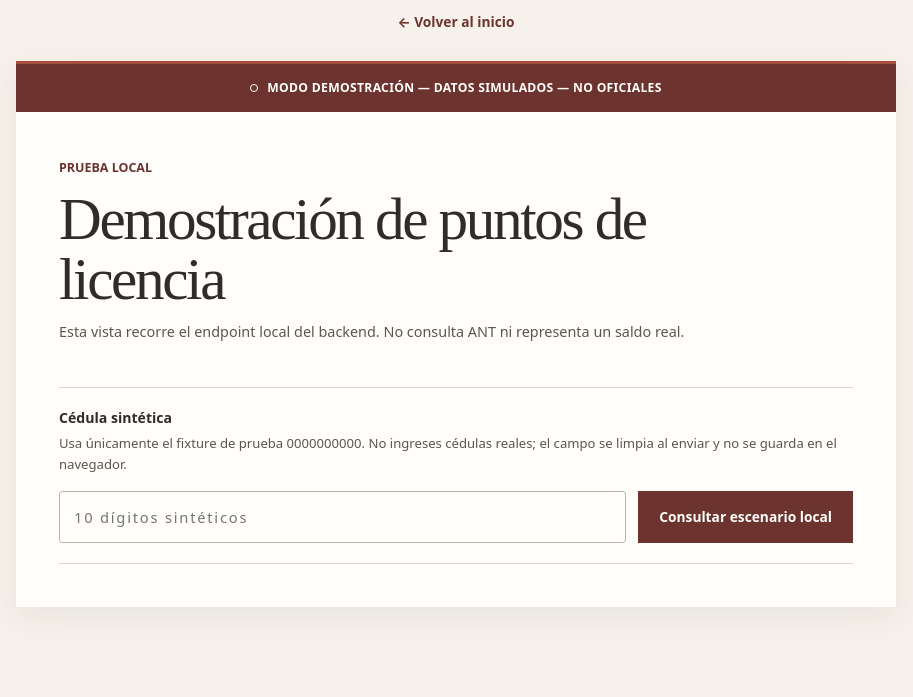
Scenario: demostración local de puntos ANT › distingue timeout del proveedor y timeout del cliente
The image size is (913, 697).
Type "0000000000" into the field labelled "Cédula sintética" at point(343, 517), box [59,491,626,543]
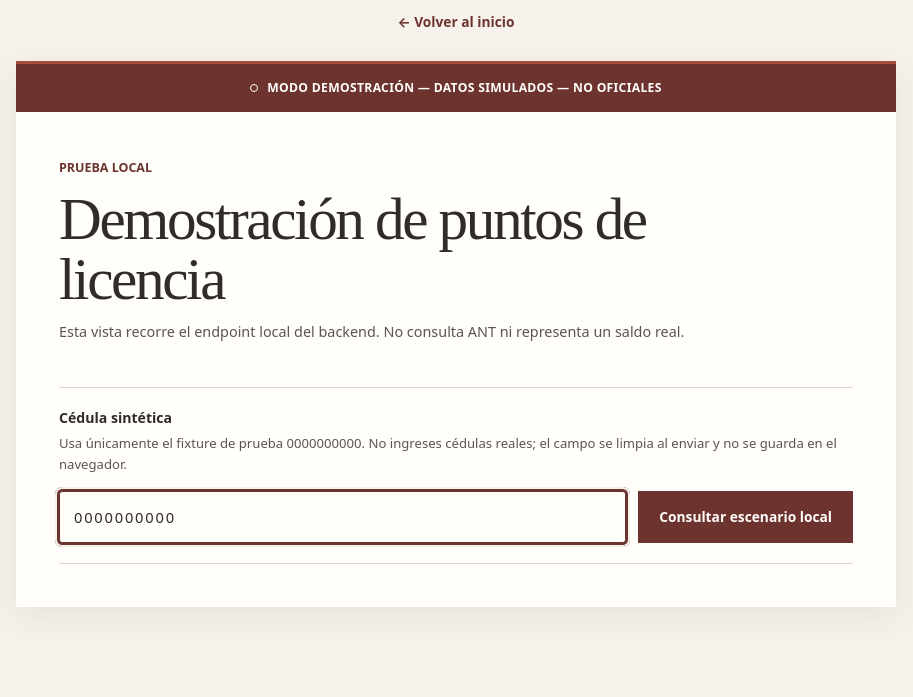
Click the button "Consultar escenario local" at point(746, 517), box [638,491,853,543]
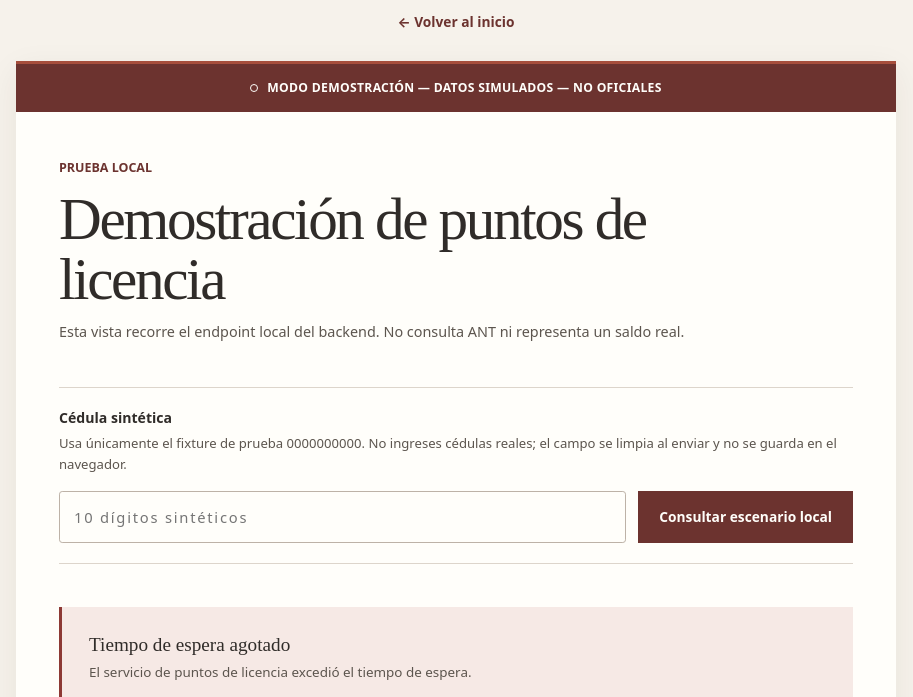
Now the message shows "Tiempo de espera agotado", box [89,634,290,655]
Now the message shows "El servicio de puntos de licencia excedió el tiempo de espera.", box [89,663,472,681]
Type "0000000000" into the field labelled "Cédula sintética" at point(343, 517), box [59,491,626,543]
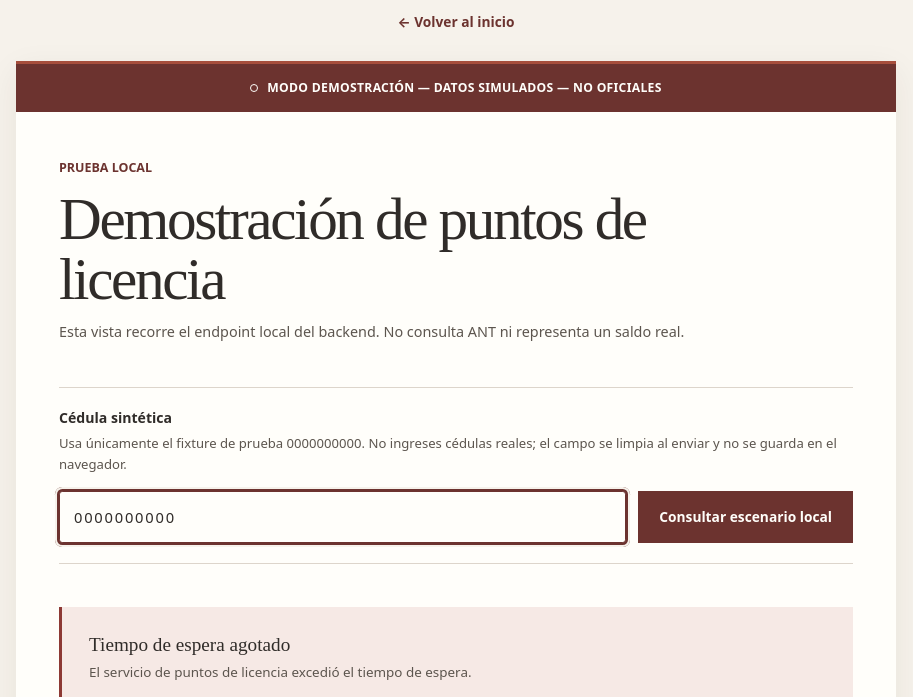
Click the button "Consultar escenario local" at point(746, 517), box [638,491,853,543]
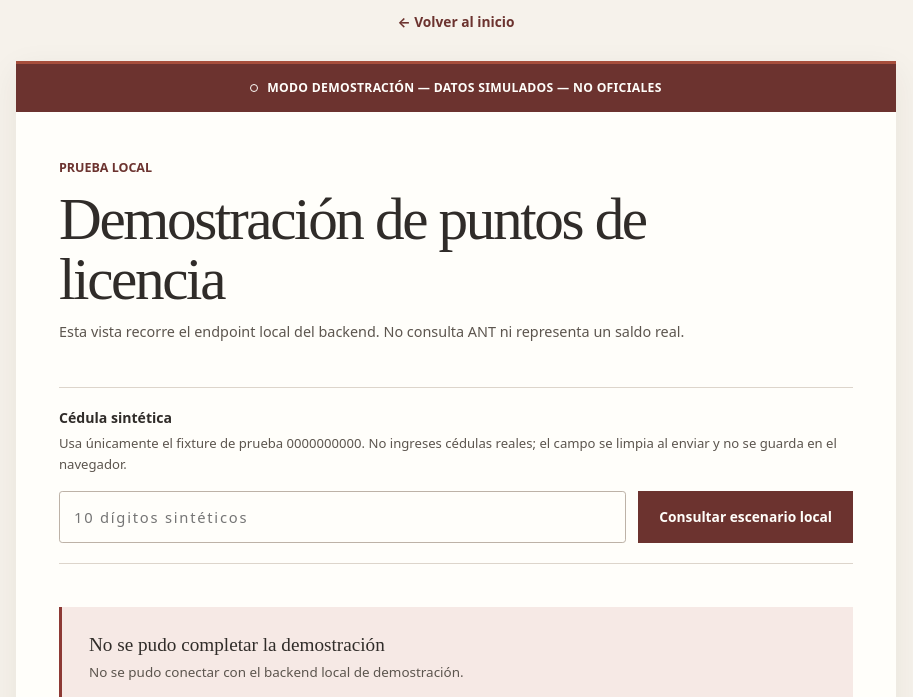
Now the message shows "No se pudo conectar con el backend local de demostración.", box [89,663,464,681]
